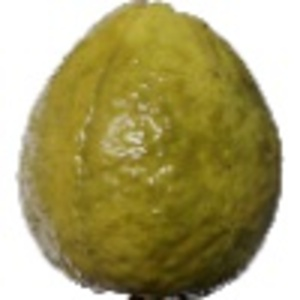goiaba: (13, 3, 290, 294)
